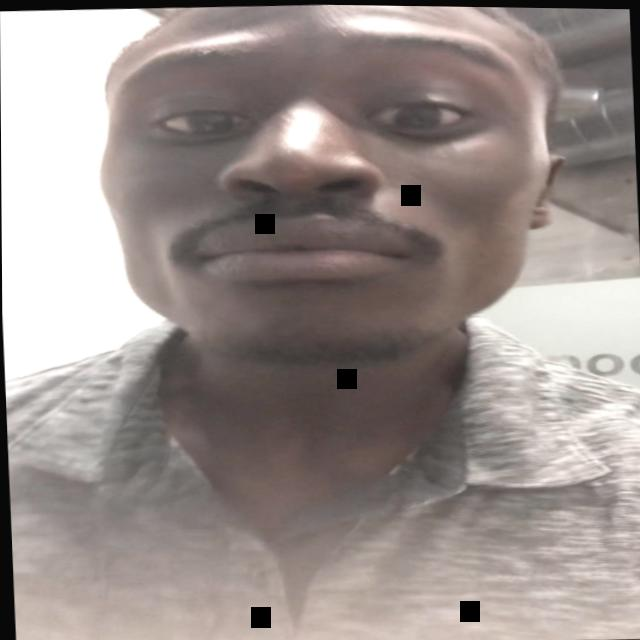NO-Mask: (93, 1, 561, 369)
